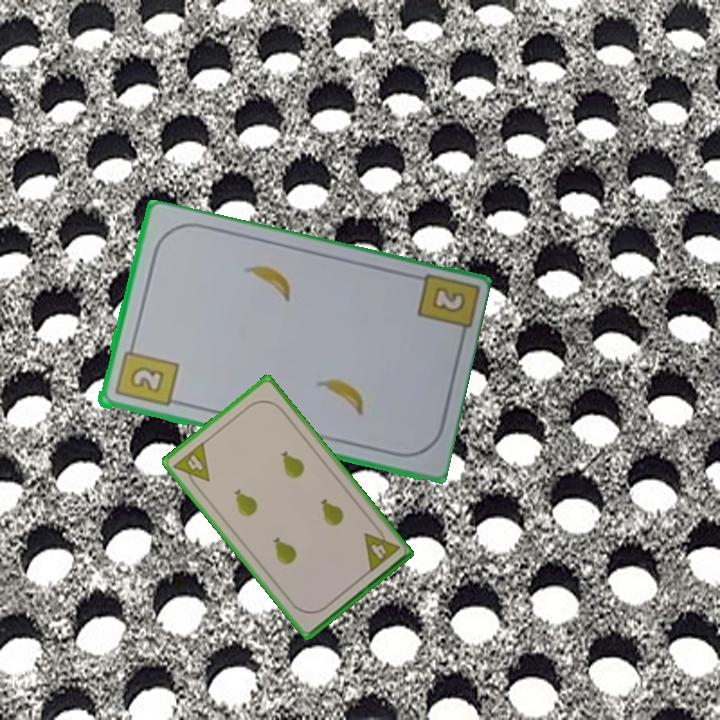2b: (111, 339, 180, 410), (431, 286, 465, 314)
4p: (169, 438, 213, 493), (360, 522, 402, 575)
